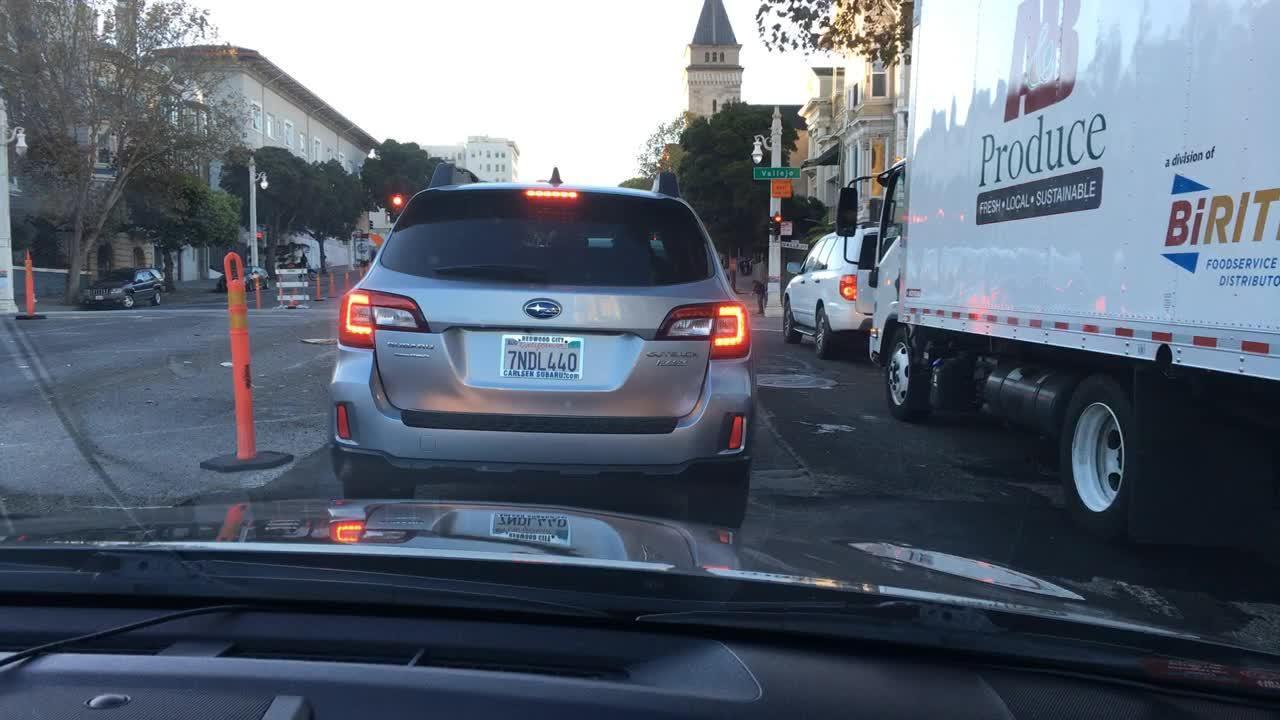subaru: (521, 299, 565, 319)
